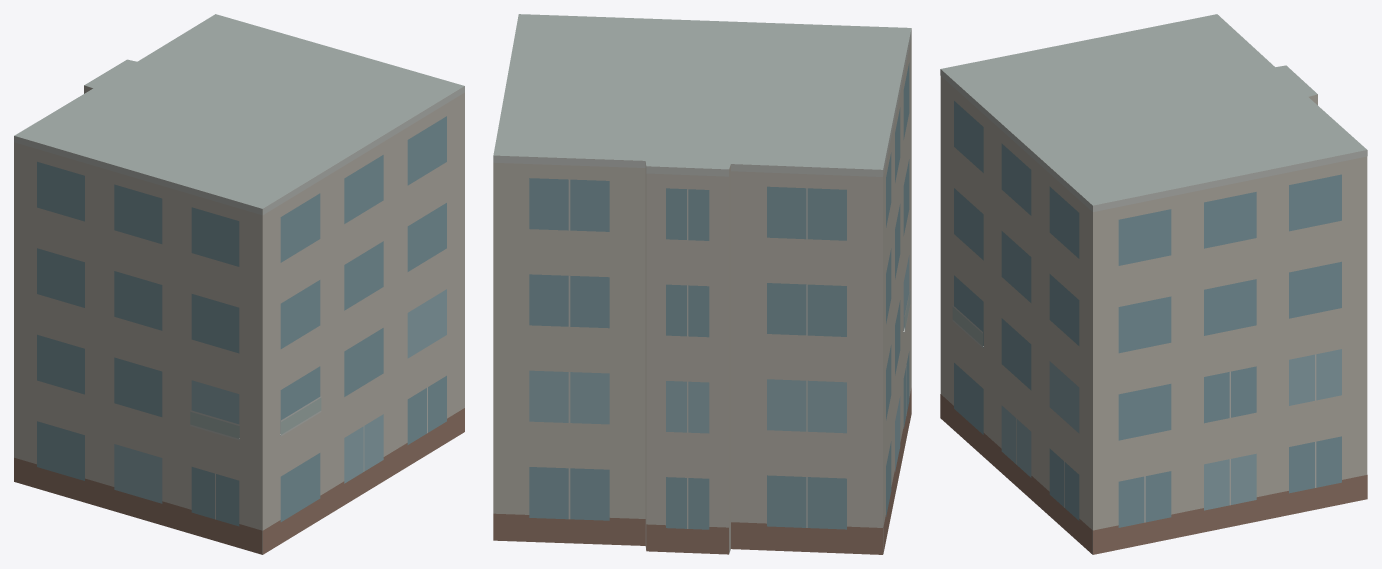
Rendered from survey-upis-32732580.glb.
The picture shows the model from 3 angles, left to right: view 1: azimuth 30°, elevation 25°; view 2: azimuth 150°, elevation 25°; view 3: azimuth 270°, elevation 25°; orthographic projection. The views are drawn at different scales.
Parts seen in each view (by area): view 1: survey-upis-32732580.tmp; view 2: survey-upis-32732580.tmp; view 3: survey-upis-32732580.tmp.
Part boxes in pixels (x1,y1,x2,y2): survey-upis-32732580.tmp: [14, 14, 464, 554]; survey-upis-32732580.tmp: [493, 14, 911, 554]; survey-upis-32732580.tmp: [940, 14, 1367, 554].
Bounding box in the file's own units: 15.31 × 13 × 14.41.
